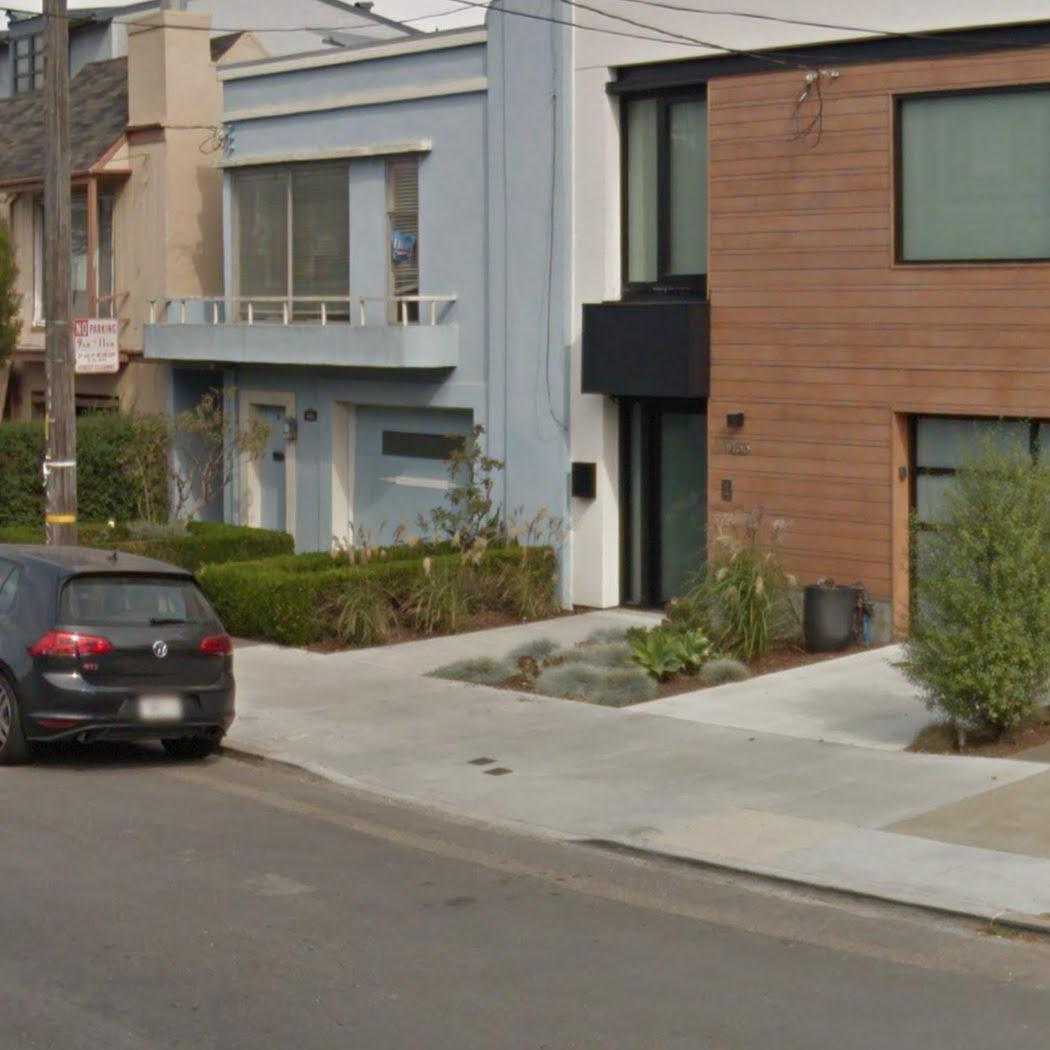No Parking: (72, 316, 121, 375)
